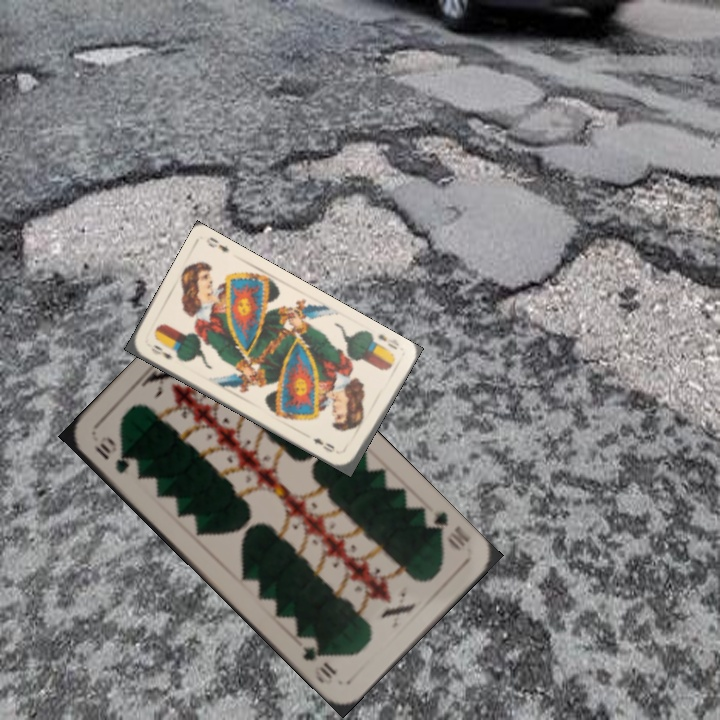EO: (374, 330, 402, 352), (147, 340, 174, 362)
G10: (420, 507, 473, 554), (89, 433, 132, 477)
